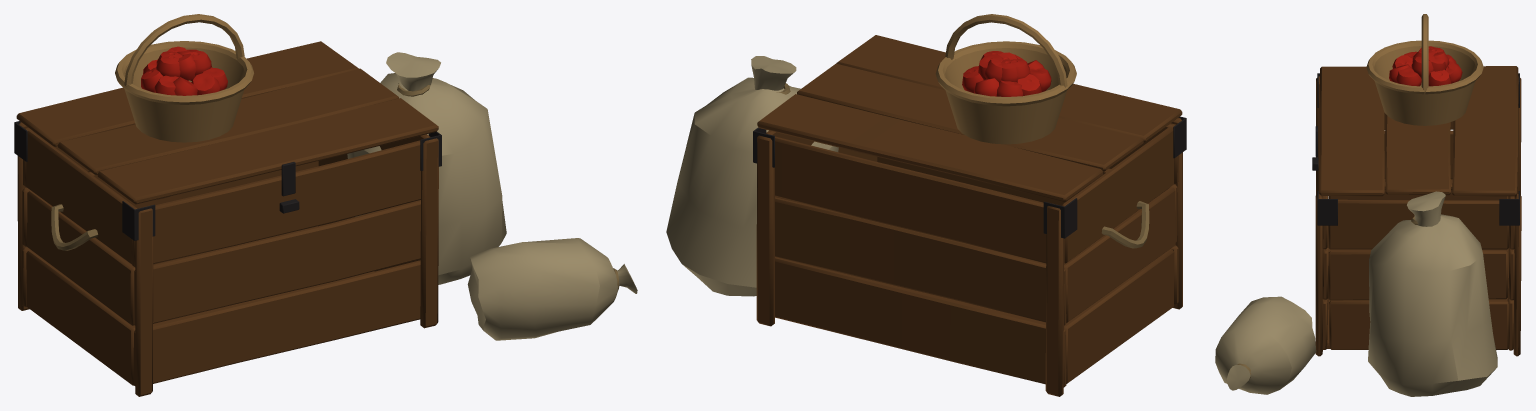
Rendered from vorratskiste.glb.
3 views of the same model, side by side, from view 1: azimuth 30°, elevation 25°; view 2: azimuth 150°, elevation 25°; view 3: azimuth 270°, elevation 25° (orthographic). The views are drawn at different scales.
Visible parts, largest first — view 1: vorratskiste; view 2: vorratskiste; view 3: vorratskiste.
Boxes of the visible parts, x1,y1,x2,y2 form: vorratskiste: (14, 14, 637, 396); vorratskiste: (666, 14, 1186, 396); vorratskiste: (1215, 14, 1521, 396).
Bounding box in the file's own units: 1.42 × 0.912 × 0.9509.
